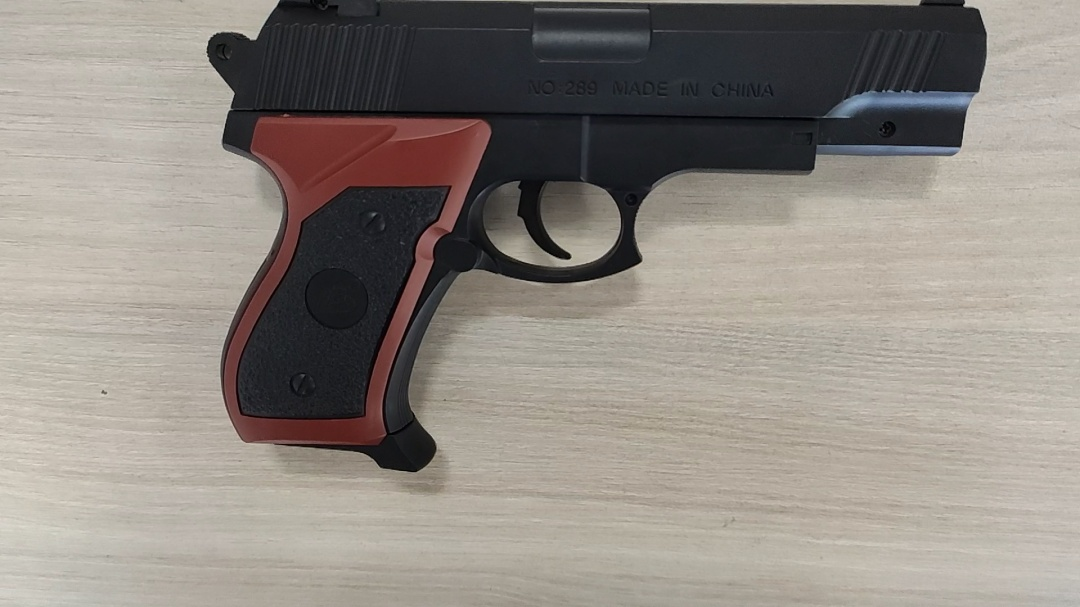gun: (524, 114, 676, 378)
